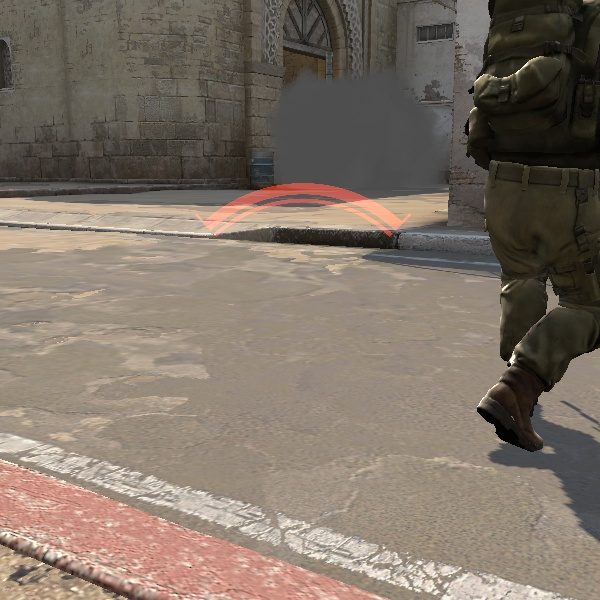ct_body: (433, 0, 591, 453)
